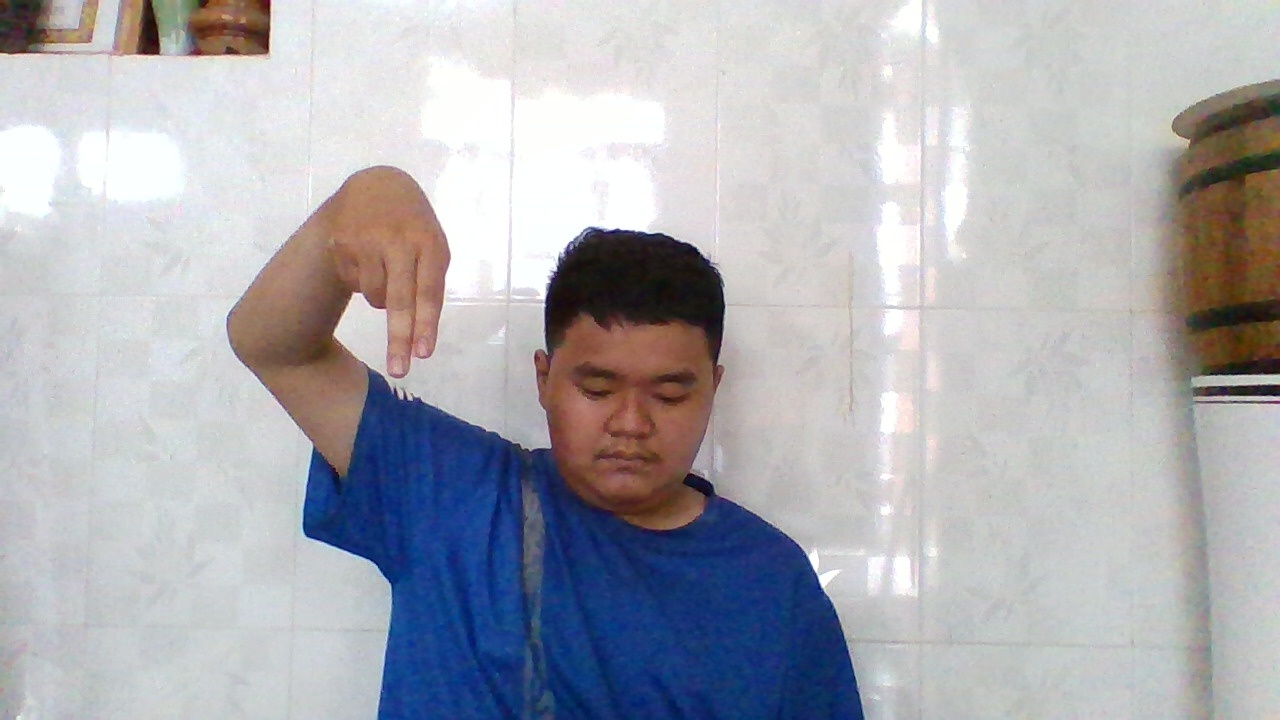N: (325, 161, 450, 387)
